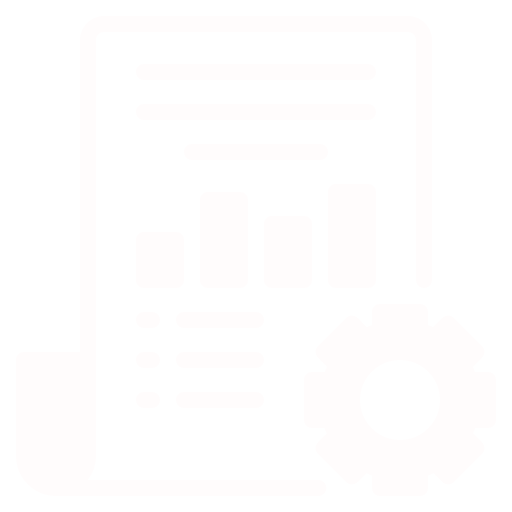

The dashboard page shown, as its layout file describes it:
{"tool":"powerbi","page":{"name":"Deposits vs Targets ","canvas":[2500,1580],"ordinal":0},"visuals":[{"type":"shape","box":[250.2,0,2249.9,94.8],"z":0,"group":"g1"},{"type":"slicer","fields":{"Values":["DimDate.Finanical Year"]},"box":[342.2,97.8,227,146.6],"z":0,"group":"g3"},{"type":"pageNavigator","box":[0,224.4,328.6,372.9],"z":0,"group":"g2"},{"type":"shape","box":[1940,260,515.1,224.4],"z":0,"group":"g9"},{"type":"shape","box":[872.1,260.5,515.1,224.4],"z":0,"group":"g5"},{"type":"shape","box":[1404.7,260.5,515.1,224.4],"z":0,"group":"g6"},{"type":"shape","box":[337.2,261.4,515.1,224.4],"z":0,"group":"g4"},{"type":"map","title":"GEOGRAPHICAL DEPOSI DIETRIBUTIONTS","fields":{"Category":["DimBranch.City"],"Series":["DimBranch.City"],"Size":["AllMeasure.TOTAL DEPOSITS"]},"box":[1952.9,499.3,493,714.2],"z":0},{"type":"donutChart","title":"DEPOSITS BY PRODUCT TYPE","fields":{"Category":["DimProduct.ProductName"],"Y":["AllMeasure.TOTAL DEPOSITS"]},"box":[1455,500,485,515],"z":0,"group":"g8"},{"type":"shape","box":[1952.9,1232.4,483.5,347.6],"z":0,"group":"g7"},{"type":"image","box":[2073.5,9.5,60,75.8],"z":1000,"group":"g1"},{"type":"slicer","fields":{"Values":["DimDate.Quarter"]},"box":[611.1,104.8,220,139.7],"z":1000,"group":"g3"},{"type":"image","box":[12.6,240.2,66.4,72.7],"z":1000,"group":"g2"},{"type":"image","box":[1969.4,284.7,119.8,107.8],"z":1000,"group":"g9"},{"type":"image","box":[901.5,285.2,119.8,107.8],"z":1000,"group":"g5"},{"type":"image","box":[1434.1,285.2,119.8,107.8],"z":1000,"group":"g6"},{"type":"image","box":[366.6,286.1,119.8,107.8],"z":1000,"group":"g4"},{"type":"cardVisual","fields":{"Data":["AllMeasure.TOTAL DEPOSITS"]},"box":[1582.5,742.5,115,92.5],"z":1000,"group":"g8"},{"type":"tableEx","title":"Deposit Performance by Branch Hierarchy","fields":{"Values":["DimBranch.Region","DimBranch.Zone","DimBranch.City","DimBranch.BranchName","AllMeasure.TOTAL DEPOSITS","AllMeasure.DEPOSIT TARGET","AllMeasure.DIFFERENCE","AllMeasure.Achivement","AllMeasure.YoY DEPOSIT GROWTH %"]},"box":[350.8,1036.5,1557.9,543.5],"z":1000},{"type":"textbox","box":[1970,1240,171.7,48.3],"z":1000,"group":"g7"},{"type":"textbox","box":[2146.2,25.3,322.3,50.6],"z":2000,"group":"g1"},{"type":"slicer","fields":{"Values":["DimDate.Month"]},"box":[862.5,104.8,244.4,139.7],"z":2000,"group":"g3"},{"type":"cardVisual","fields":{"Data":["Table.DEPOSIT TARGET"]},"box":[1020.6,266.2,324.8,152.2],"z":2000,"group":"g5"},{"type":"cardVisual","fields":{"Data":["Table.TOTAL DEPOSITS"]},"box":[485.7,267.1,324.8,152.2],"z":2000,"group":"g4"},{"type":"image","box":[12.6,372.9,66.4,72.7],"z":2000,"group":"g2"},{"type":"cardVisual","fields":{"Data":["AllMeasure.Previous Year Deposit GROWTH"]},"box":[2140,415,165,57.5],"z":2000,"group":"g9"},{"type":"textbox","box":[1534.9,430.3,107,41.9],"z":2000,"group":"g6"},{"type":"clusteredColumnChart","title":"ACTUAL  vs TARGET  DEPOSIT (Month)","fields":{"Category":["BranchDepositTargets.MonthName"],"Y":["AllMeasure.TOTAL DEPOSITS","AllMeasure.DEPOSIT TARGET"]},"box":[347.6,499.3,524.6,515.1],"z":2000},{"type":"image","box":[2340,1356,90,98],"z":2000,"group":"g7"},{"type":"cardVisual","fields":{"Data":["AllMeasure.Growth Arrow %"]},"box":[2282.5,402.5,162.5,75],"z":2500,"group":"g9"},{"type":"textbox","box":[1977.5,425,190,55],"z":2750,"group":"g9"},{"type":"textbox","box":[888.5,12.6,973.3,88.5],"z":3000,"group":"g1"},{"type":"slicer","fields":{"Values":["DimBranch.Region"]},"box":[1131.3,104.8,223.5,139.7],"z":3000,"group":"g3"},{"type":"cardVisual","fields":{"Data":["Table.ACHIVEMENT %"]},"box":[1590.7,272.1,241.9,148.8],"z":3000,"group":"g6"},{"type":"cardVisual","fields":{"Data":["AllMeasure.YoY Growth %"]},"box":[2107.5,275,330,117.5],"z":3000,"group":"g9"},{"type":"textbox","box":[1285.6,335.5,66.4,66.4],"z":3000,"group":"g5"},{"type":"textbox","box":[759.8,345.5,66.2,66.6],"z":3000,"group":"g4"},{"type":"image","box":[12.6,499.3,66.4,72.7],"z":3000,"group":"g2"},{"type":"lineChart","title":"DEPOSITS TRAND (YEAR >QUATER>MONTH)","fields":{"Category":["DimDate.Year","DimDate.Quarter","DimDate.Month"],"Y":["AllMeasure.TOTAL DEPOSITS"]},"box":[900,500,522.5,515],"z":3000},{"type":"textbox","box":[1970,1288.3,370,271.7],"z":3000,"group":"g7"},{"type":"shape","title":"Left Pane ","box":[0,0,328.6,1580],"z":4000},{"type":"image","box":[211.3,3.5,460.9,69.8],"z":4000,"group":"g1"},{"type":"slicer","fields":{"Values":["DimBranch.Zone"]},"box":[1379.2,97.8,237.4,139.7],"z":4000,"group":"g3"},{"type":"cardVisual","fields":{"Data":["Table.Achivemet Difference %"]},"box":[1616.3,416.3,120.9,60.5],"z":4000,"group":"g6"},{"type":"cardVisual","fields":{"Data":["Table.Previous Year"]},"box":[520.1,425.6,148.2,50.7],"z":4000,"group":"g4"},{"type":"textbox","box":[887.9,432.1,186.1,34.9],"z":4000,"group":"g5"},{"type":"image","box":[0,628.9,328.6,856.4],"z":4000,"group":"g2"},{"type":"group","id":"g1","title":"Top Pane","box":[211.3,0,2288.8,101.1],"z":5000},{"type":"slicer","fields":{"Values":["DimBranch.BranchName"]},"box":[1641.1,104.8,300.3,139.7],"z":5000,"group":"g3"},{"type":"cardVisual","fields":{"Data":["AllMeasure.Achivement Arrow"]},"box":[1737.3,414,169.8,60.5],"z":5000,"group":"g6"},{"type":"cardVisual","fields":{"Data":["Table.Traget Deposits Previous Year"]},"box":[1034.9,421,144.2,48.8],"z":5000,"group":"g5"},{"type":"textbox","box":[353,433,186.1,34.9],"z":5000,"group":"g4"},{"type":"shape","box":[2259.1,122.2,209.5,101.3],"z":6000,"group":"g3"},{"type":"textbox","box":[1139.5,437.2,44.2,41.9],"z":6000,"group":"g5"},{"type":"textbox","box":[655.7,442.2,50.5,28.5],"z":6000,"group":"g4"},{"type":"slicer","fields":{"Values":["DimProduct.ProductName"]},"box":[1965.8,104.8,272.3,139.7],"z":7000,"group":"g3"},{"type":"group","id":"g2","title":"Left Side ","box":[0,224.4,328.6,1260.8],"z":7000},{"type":"cardVisual","fields":{"Data":["Table.Deposits Growth Arrow"]},"box":[696.7,418.2,145.4,50.6],"z":7000,"group":"g4"},{"type":"cardVisual","fields":{"Data":["Table.Traget Deposits Growth Arrow"]},"box":[1195.4,418.6,179.1,53.5],"z":7000,"group":"g5"},{"type":"group","id":"g3","title":"Top Slicer","box":[342.2,97.8,2126.4,146.6],"z":8000},{"type":"image","box":[2273.1,132.7,66.3,90.8],"z":8000,"group":"g3"},{"type":"textbox","box":[2325.4,164.1,143.2,73.3],"z":9000,"group":"g3"},{"type":"group","id":"g4","title":"Total Deposits ","box":[337.2,261.4,515.1,224.4],"z":9000},{"type":"group","id":"g5","title":"Target Deposit","box":[872.1,260.5,515.1,224.4],"z":10000},{"type":"group","id":"g6","title":"Achivement%","box":[1404.7,260.5,515.1,224.4],"z":11000},{"type":"group","id":"g7","title":"Key Insight","box":[1952.9,1232.4,483.5,347.6],"z":12000},{"type":"group","id":"g8","title":"DEPOSIT BY PRODUCT","box":[1455,500,485,515],"z":13000},{"type":"group","id":"g9","title":"YOY DEPOSIT GROWTH","box":[1940,260,515.1,224.4],"z":14000}]}

Visuals, with their boxes on the page's 2500x1580 design canvas (x1, y1, x2, y2). These are canvas units, not pixel positions in the 512x512 screenshot, which may show the page scaled, cropped or inside an application window:
shape: 250/0/2500/95
slicer - DimDate.Finanical Year: 342/98/569/244
pageNavigator: 0/224/329/597
shape: 1940/260/2455/484
shape: 872/260/1387/485
shape: 1405/260/1920/485
shape: 337/261/852/486
"GEOGRAPHICAL DEPOSI DIETRIBUTIONTS" map: 1953/499/2446/1214
"DEPOSITS BY PRODUCT TYPE" donutChart: 1455/500/1940/1015
shape: 1953/1232/2436/1580
image: 2074/10/2134/85
slicer - DimDate.Quarter: 611/105/831/244
image: 13/240/79/313
image: 1969/285/2089/392
image: 902/285/1021/393
image: 1434/285/1554/393
image: 367/286/486/394
cardVisual - AllMeasure.TOTAL DEPOSITS: 1582/742/1698/835
"Deposit Performance by Branch Hierarchy" tableEx: 351/1036/1909/1580
textbox: 1970/1240/2142/1288
textbox: 2146/25/2468/76
slicer - DimDate.Month: 862/105/1107/244
cardVisual - Table.DEPOSIT TARGET: 1021/266/1345/418
cardVisual - Table.TOTAL DEPOSITS: 486/267/810/419
image: 13/373/79/446
cardVisual - AllMeasure.Previous Year Deposit GROWTH: 2140/415/2305/472
textbox: 1535/430/1642/472
"ACTUAL  vs TARGET  DEPOSIT (Month)" clusteredColumnChart: 348/499/872/1014
image: 2340/1356/2430/1454
cardVisual - AllMeasure.Growth Arrow %: 2282/402/2445/478
textbox: 1978/425/2168/480
textbox: 888/13/1862/101
slicer - DimBranch.Region: 1131/105/1355/244
cardVisual - Table.ACHIVEMENT %: 1591/272/1833/421
cardVisual - AllMeasure.YoY Growth %: 2108/275/2438/392
textbox: 1286/336/1352/402
textbox: 760/346/826/412
image: 13/499/79/572
"DEPOSITS TRAND (YEAR >QUATER>MONTH)" lineChart: 900/500/1422/1015
textbox: 1970/1288/2340/1560
"Left Pane " shape: 0/0/329/1580
image: 211/4/672/73
slicer - DimBranch.Zone: 1379/98/1617/238
cardVisual - Table.Achivemet Difference %: 1616/416/1737/477
cardVisual - Table.Previous Year: 520/426/668/476
textbox: 888/432/1074/467
image: 0/629/329/1485
"Top Pane" group: 211/0/2500/101
slicer - DimBranch.BranchName: 1641/105/1941/244
cardVisual - AllMeasure.Achivement Arrow: 1737/414/1907/474
cardVisual - Table.Traget Deposits Previous Year: 1035/421/1179/470
textbox: 353/433/539/468
shape: 2259/122/2469/224
textbox: 1140/437/1184/479
textbox: 656/442/706/471
slicer - DimProduct.ProductName: 1966/105/2238/244
"Left Side " group: 0/224/329/1485
cardVisual - Table.Deposits Growth Arrow: 697/418/842/469
cardVisual - Table.Traget Deposits Growth Arrow: 1195/419/1374/472
"Top Slicer" group: 342/98/2469/244
image: 2273/133/2339/224
textbox: 2325/164/2469/237
"Total Deposits " group: 337/261/852/486
"Target Deposit" group: 872/260/1387/485
"Achivement%" group: 1405/260/1920/485
"Key Insight" group: 1953/1232/2436/1580
"DEPOSIT BY PRODUCT" group: 1455/500/1940/1015
"YOY DEPOSIT GROWTH" group: 1940/260/2455/484
